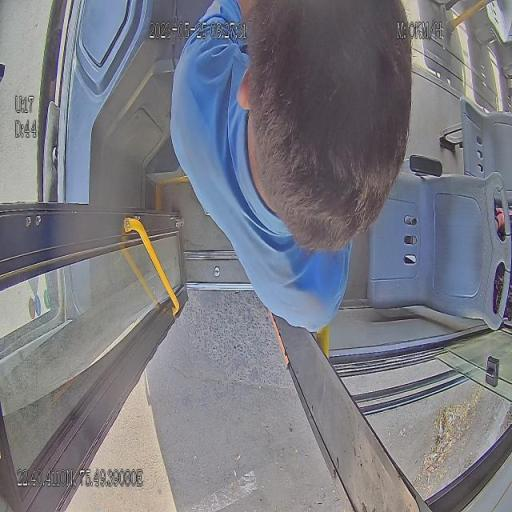persona: (168, 0, 414, 334)
